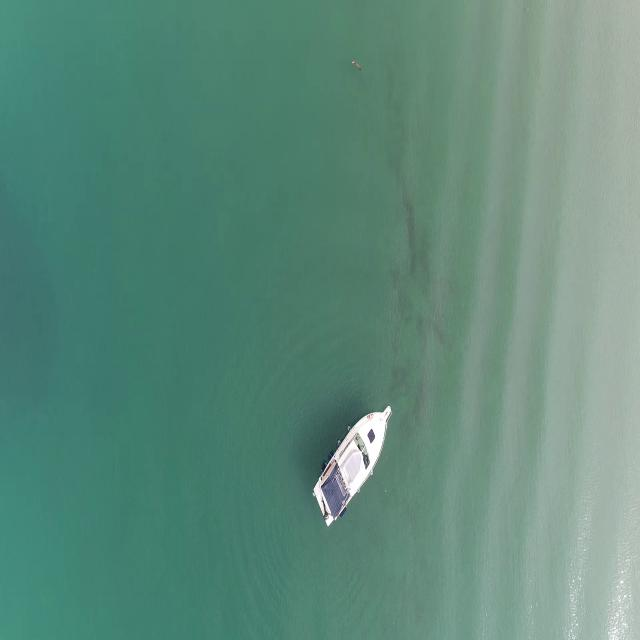boat: (314, 401, 391, 534)
wood: (351, 58, 363, 72)
